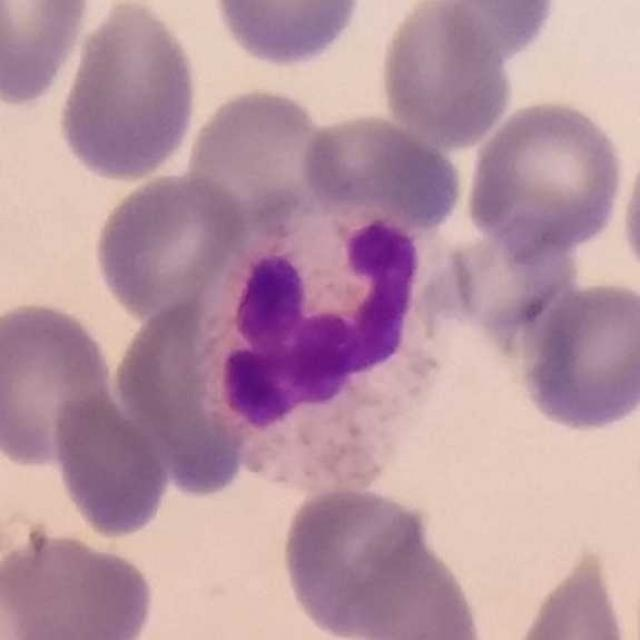Neutrophil: (192, 204, 466, 495)
RBC: (277, 483, 465, 639), (54, 0, 202, 185), (116, 294, 250, 496), (463, 95, 628, 257), (89, 168, 250, 323), (179, 82, 342, 228), (0, 296, 120, 472), (295, 109, 467, 230), (375, 1, 514, 149), (46, 384, 175, 543), (513, 276, 640, 436), (0, 523, 159, 640), (439, 219, 578, 345), (505, 542, 638, 640), (207, 0, 368, 71), (0, 0, 93, 110), (422, 0, 561, 70), (616, 134, 640, 295)
